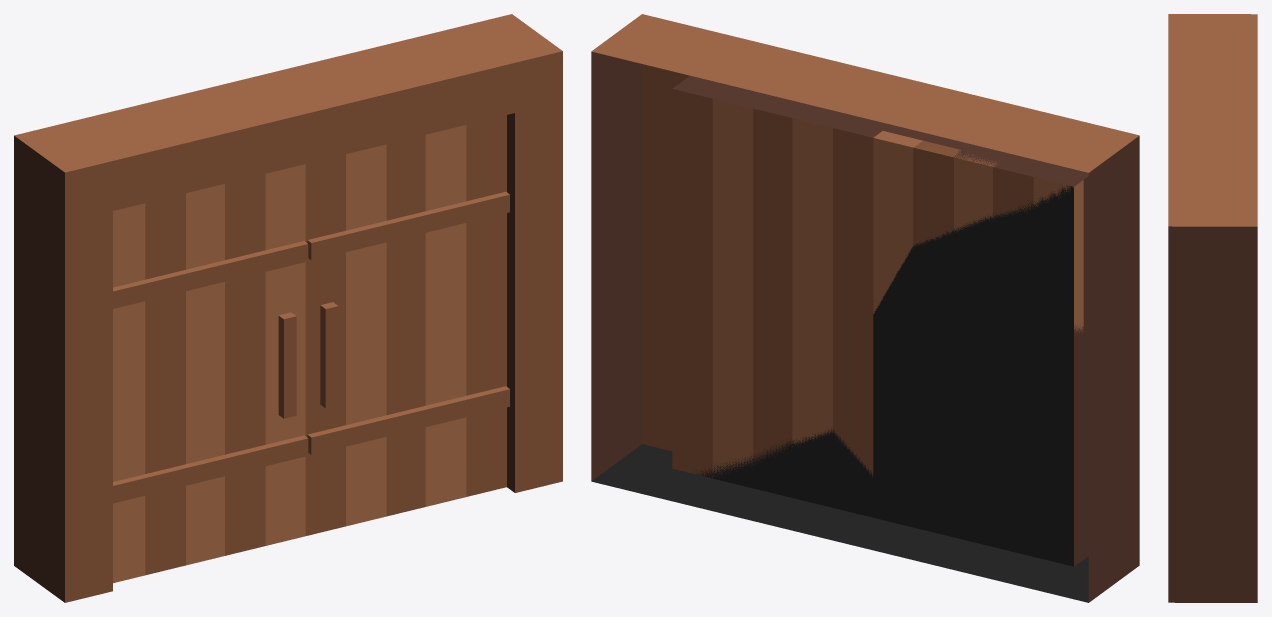
The model's file is TB_Bd_Door_Wide.FBX.
3 views of the same model, side by side, from view 1: azimuth 30°, elevation 25°; view 2: azimuth 150°, elevation 25°; view 3: azimuth 270°, elevation 25° (orthographic). The views are drawn at different scales.
Visible parts, largest first — view 1: TB_Bd_DoorFrame_Wide, TB_Bd_Door_Wide_R, TB_Bd_Door_Wide_L; view 2: TB_Bd_DoorFrame_Wide, TB_Bd_Door_Wide_R, TB_Bd_Door_Wide_L; view 3: TB_Bd_DoorFrame_Wide.
Boxes of the visible parts, <box> form: TB_Bd_DoorFrame_Wide: <box>14,14,562,602</box>; TB_Bd_Door_Wide_R: <box>305,115,509,535</box>; TB_Bd_Door_Wide_L: <box>113,164,308,583</box>; TB_Bd_DoorFrame_Wide: <box>591,14,1139,602</box>; TB_Bd_Door_Wide_R: <box>672,89,873,477</box>; TB_Bd_Door_Wide_L: <box>873,131,1083,332</box>; TB_Bd_DoorFrame_Wide: <box>1168,14,1257,602</box>.
Bounding box in the file's own units: 2.28 × 1.88 × 0.4047.
